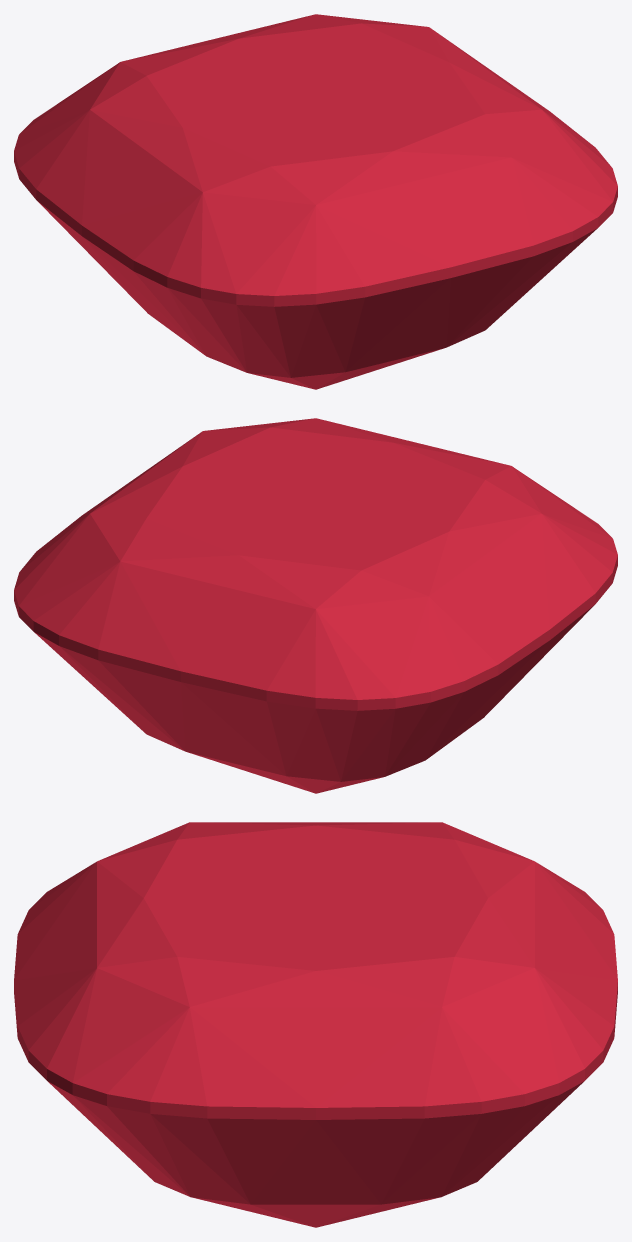
The model's file is jewelry.glb.
The picture shows the model from 3 angles, top to bottom: view 1: azimuth 30°, elevation 25°; view 2: azimuth 150°, elevation 25°; view 3: azimuth 270°, elevation 25°; orthographic projection. The views are drawn at different scales.
Visible parts, largest first — view 1: Gemstone Garnet; view 2: Gemstone Garnet; view 3: Gemstone Garnet.
Boxes of the visible parts, x1=… form: Gemstone Garnet: x1=14, y1=14, x2=617, y2=389; Gemstone Garnet: x1=14, y1=418, x2=617, y2=793; Gemstone Garnet: x1=14, y1=822, x2=617, y2=1227.
Bounding box in the file's own units: 2.2 × 1.32 × 2.2.
